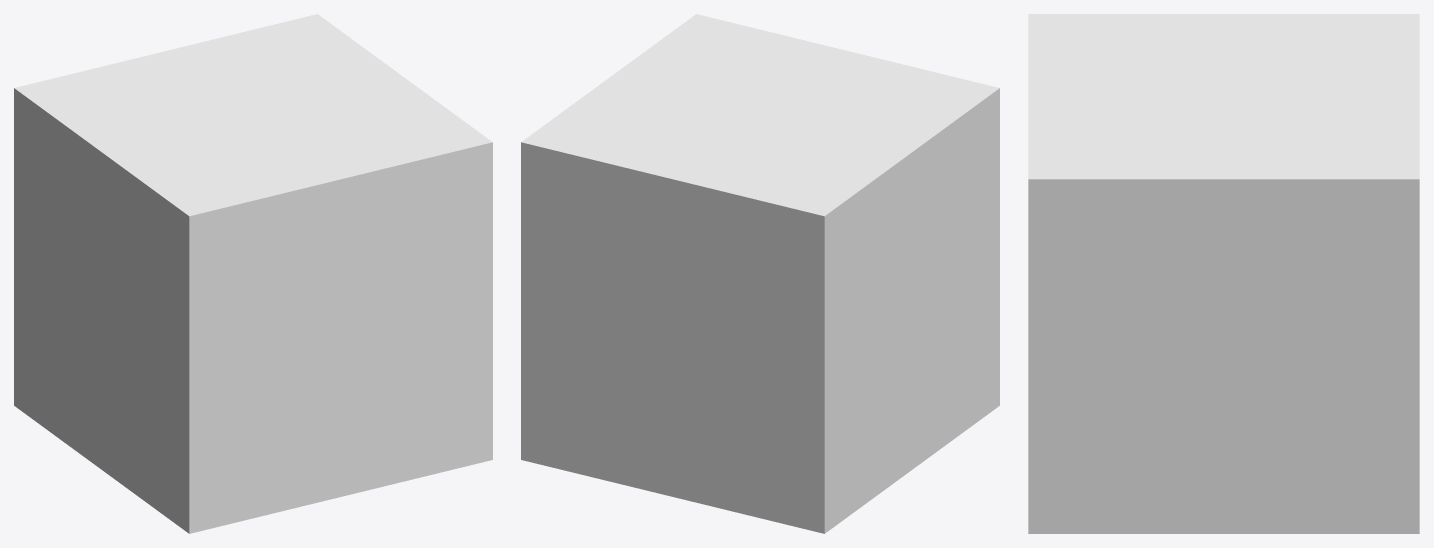
The model's file is Settings.obj.
The picture shows the model from 3 angles, left to right: view 1: azimuth 30°, elevation 25°; view 2: azimuth 150°, elevation 25°; view 3: azimuth 270°, elevation 25°; orthographic projection. The views are drawn at different scales.
Size of the model in its own units: 1.5 by 1.5 by 1.5.
